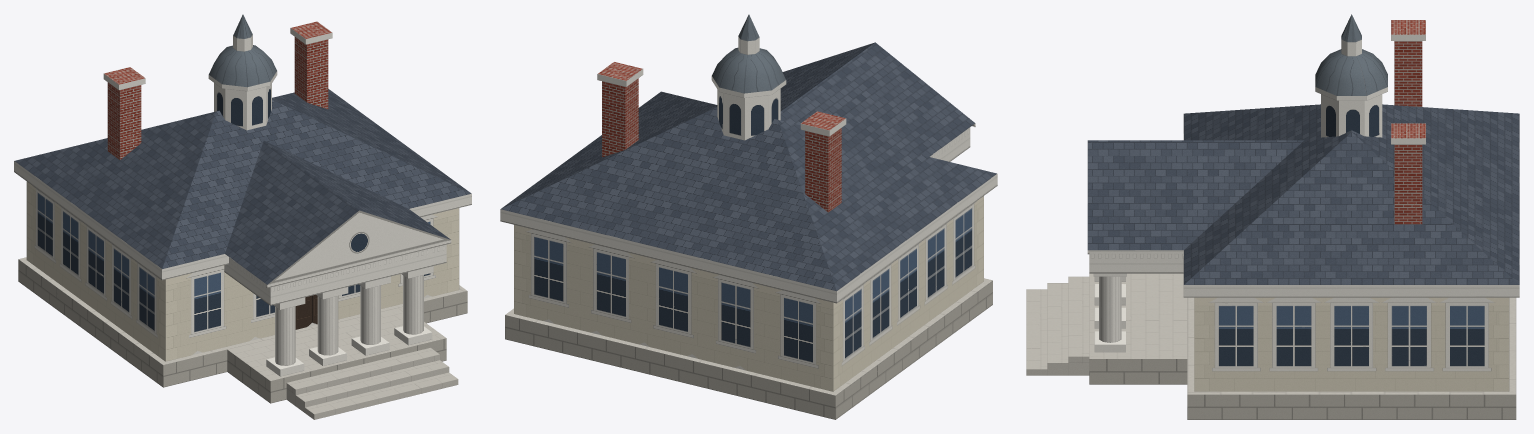
The model's file is courthouse.glb.
The picture shows the model from 3 angles, left to right: view 1: azimuth 30°, elevation 25°; view 2: azimuth 150°, elevation 25°; view 3: azimuth 270°, elevation 25°; orthographic projection. The views are drawn at different scales.
Visible parts, largest first — view 1: Courthouse; view 2: Courthouse; view 3: Courthouse.
Part boxes in pixels (x1,y1,x2,y2): Courthouse: (14, 14, 471, 419); Courthouse: (500, 14, 997, 419); Courthouse: (1026, 14, 1519, 419).
Bounding box in the file's own units: 11.6 × 10.15 × 14.1.
Materials: 1 (1 with a texture image).
